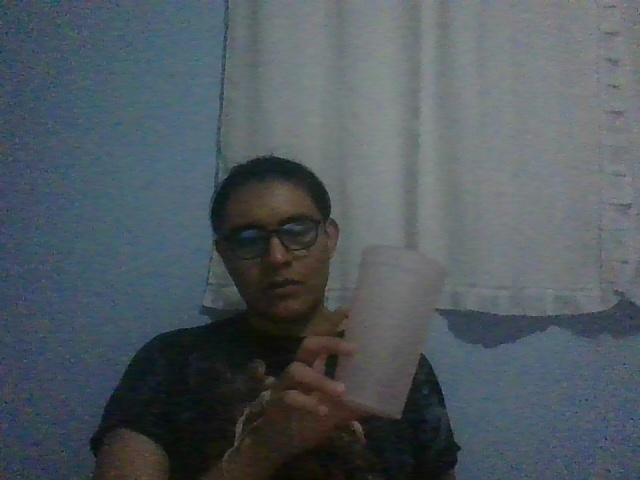vaso: (330, 244, 449, 421)
